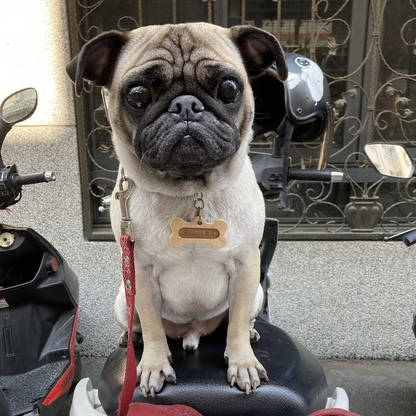Pug: (61, 16, 296, 402)
